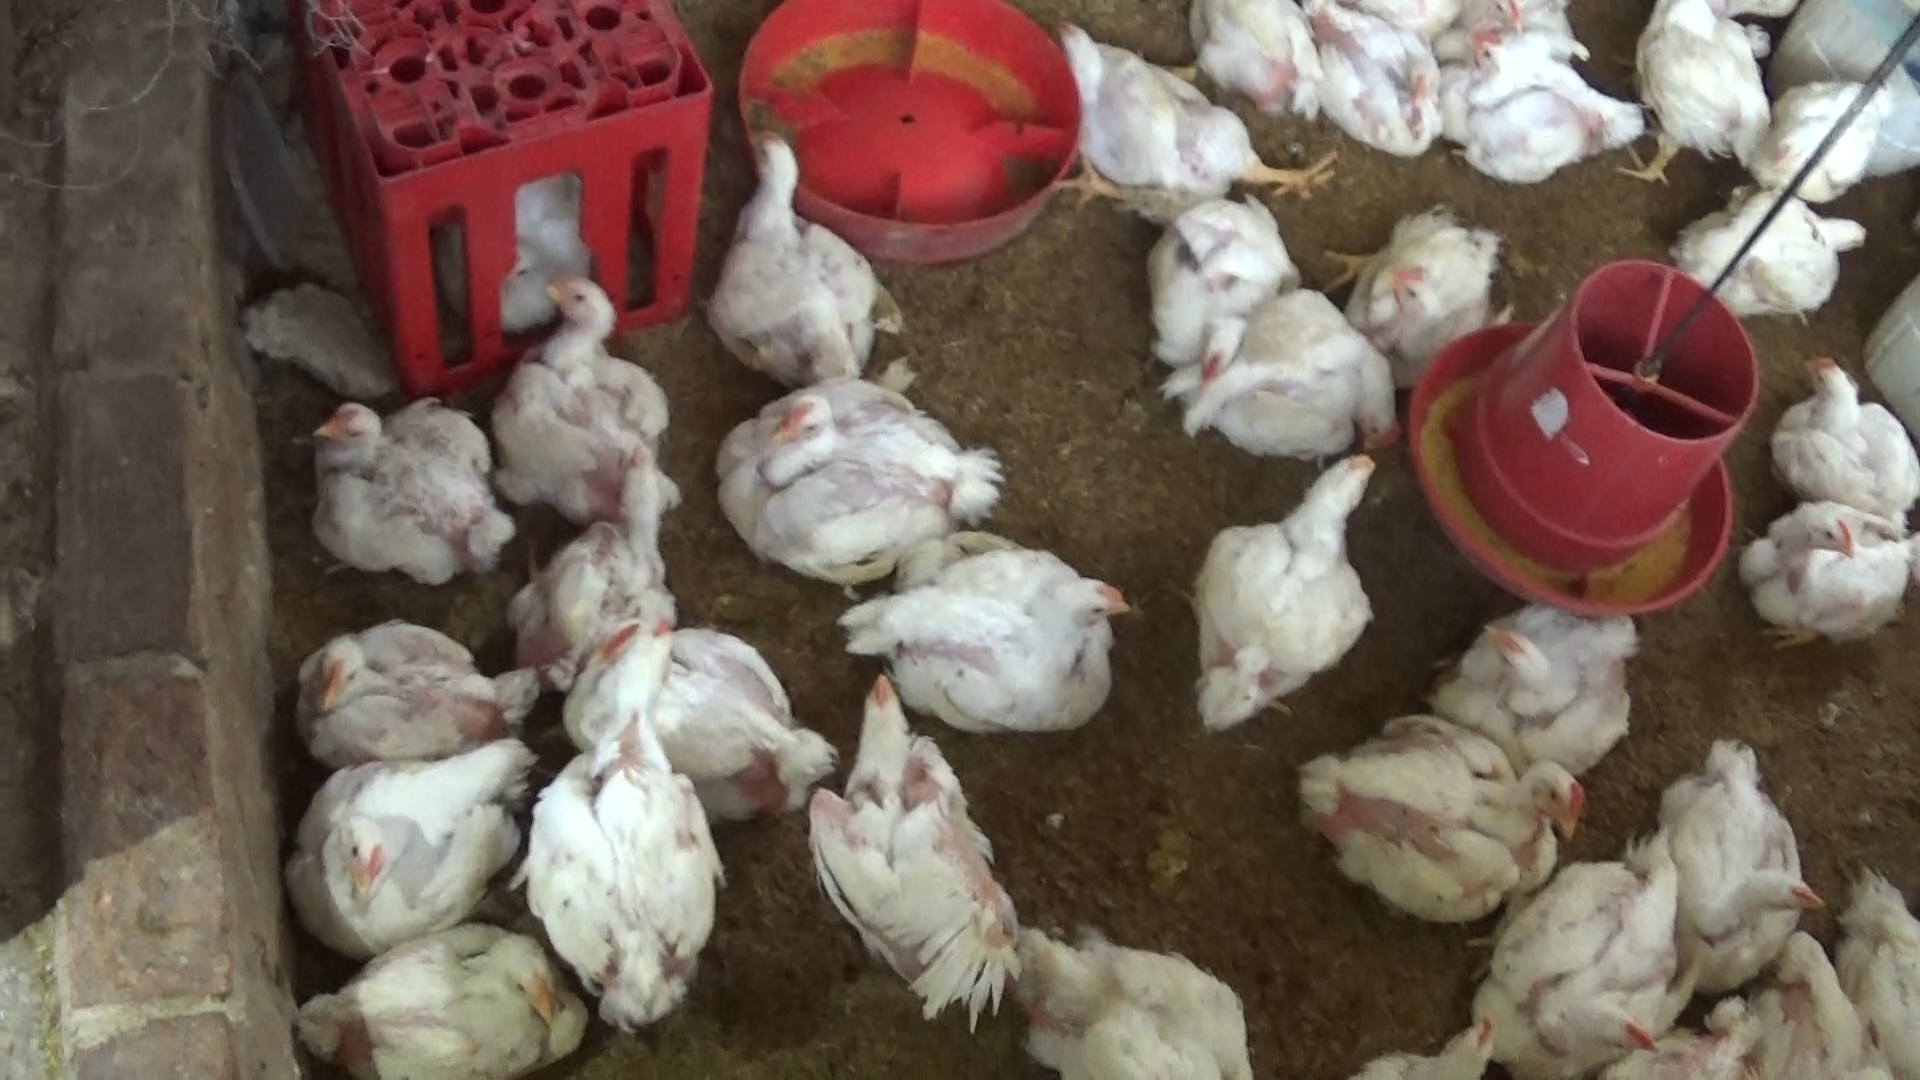Pollos: (526, 628, 741, 1034), (793, 658, 1019, 1021), (1036, 7, 1338, 232), (1300, 712, 1601, 927), (1176, 448, 1395, 742), (831, 533, 1130, 744), (281, 731, 553, 952), (580, 617, 843, 839), (720, 371, 992, 578), (707, 132, 913, 396), (985, 902, 1284, 1080), (502, 264, 686, 541), (290, 375, 521, 583), (1470, 851, 1695, 1063), (287, 934, 607, 1080), (1654, 738, 1830, 992), (1436, 568, 1631, 789), (293, 607, 545, 769), (1164, 286, 1395, 458), (1130, 182, 1309, 386), (1656, 178, 1866, 338), (1607, 0, 1768, 191), (485, 508, 680, 658), (1735, 495, 1920, 653), (1456, 40, 1640, 196), (1332, 218, 1520, 359), (1766, 342, 1920, 508), (1162, 0, 1348, 119), (1745, 74, 1907, 200), (1320, 0, 1447, 153), (1338, 1018, 1513, 1080), (1452, 0, 1576, 71)
